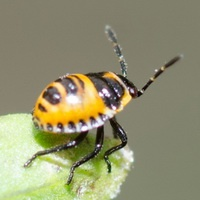insect: (24, 25, 181, 184)
